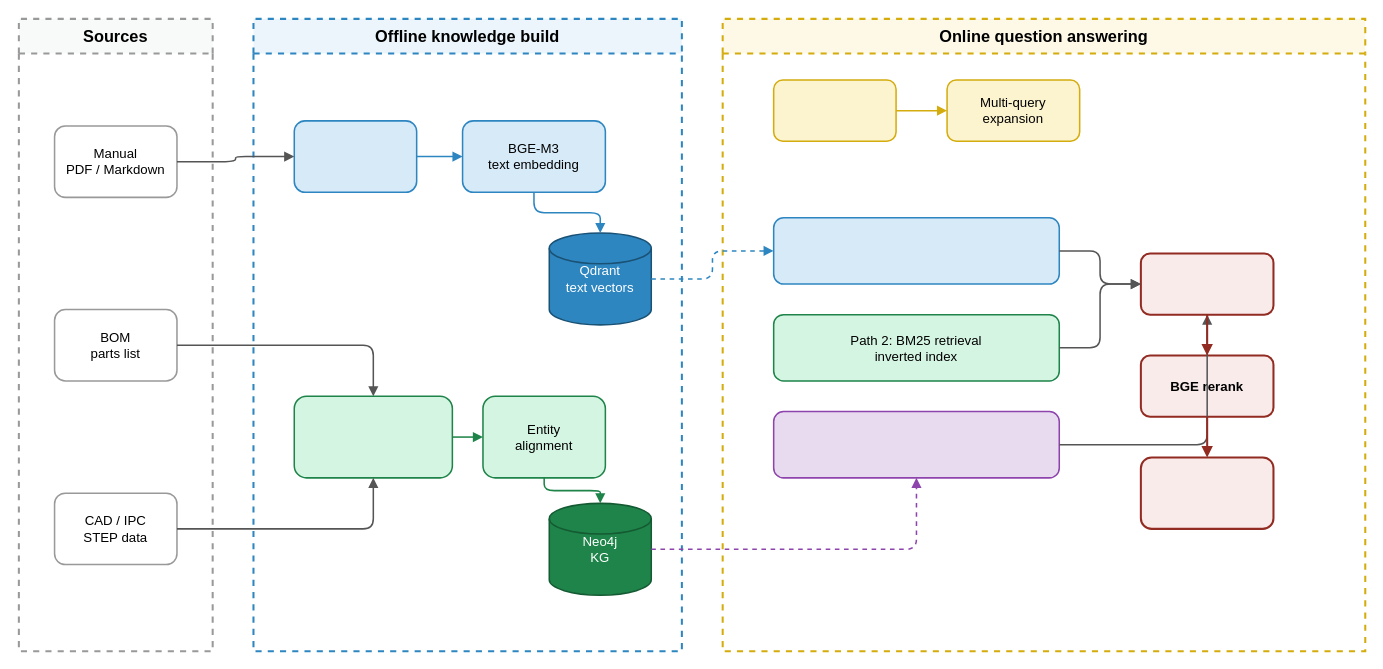
The diagram is 1383 pixels wide and 669 high, and some of its shapes have lost their labels. Each missing label, with the centre of its shape:
BOM / CAD / Manual extraction agents: the point at 373,436
LLM answer + text/KG sources: the point at 1206,492
Parse + chunk: the point at 355,156
Path 1: Dense retrieval BGE-M3 + Qdrant text: the point at 916,250
Path 3: KG subgraph retrieval semantic anchor + Neo4j hop: the point at 916,444
RRF fusion: the point at 1206,283
User query: the point at 834,110
